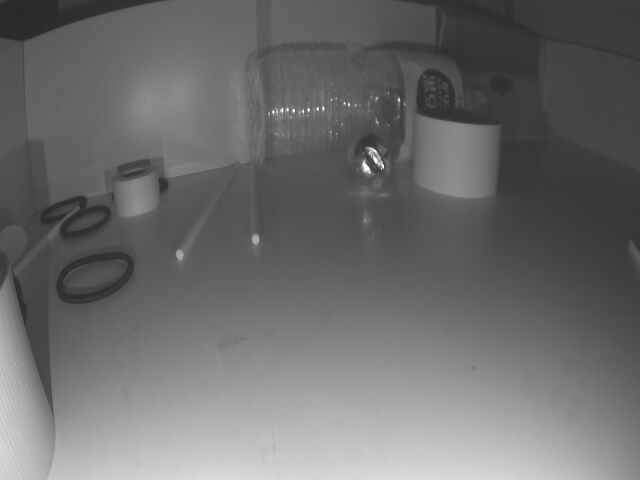Live: (347, 134, 395, 187)
